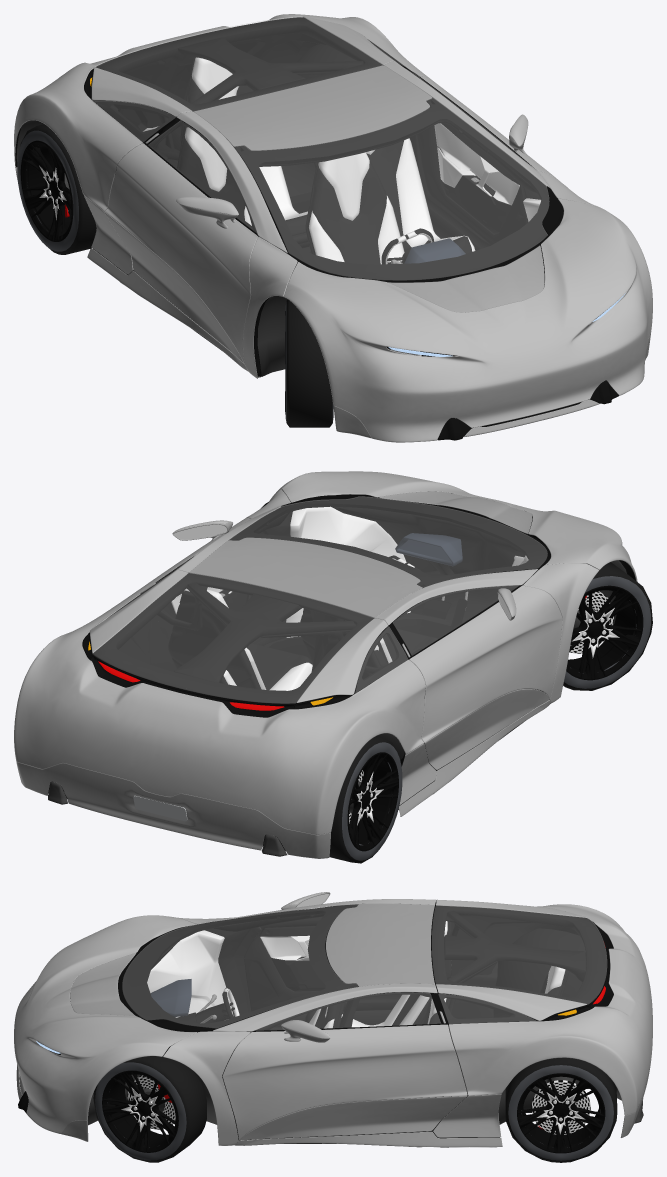
Rendered from concept-ev.glb.
3 renders of one model, top to bottom at view 1: azimuth 30°, elevation 25°; view 2: azimuth 150°, elevation 25°; view 3: azimuth 270°, elevation 25°, orthographic. The views are drawn at different scales.
Parts seen in each view (by area): view 1: BodyHood, BodyWindshield, BodyRearwindow, BodyDoorRColor1, BodyRearPanelsColor1, BodyRoofPanel, BodyWindshieldGasket, InteriorSeatsColor1, InteriorSeatsColor2, BodyPillars, InteriorPillar, InteriorRearHatch (+20 smaller); view 2: BodyRearPanelsColor1, BodyRearwindow, BodyWindshield, BodyDoorRColor1, BodyPanelsColor2, BodyRoofPanel, BodyHood, InteriorRearHatch, BodyPillars, InteriorPillar, BodyWindshieldGasket, InteriorDashMid (+21 smaller); view 3: BodyWindshield, BodyRearPanelsColor1, BodyDoorLColor1, BodyHood, BodyRearwindow, BodyRoofPanel, BodyPillars, BodyWindshieldGasket, BodyDoorLColor2, BodyPanelsColor2, InteriorRearHatch, WheelFrontL (+24 smaller).
Part boxes in pixels (<box>): BodyHood: <box>283,198,652,442</box>; BodyWindshield: <box>234,98,549,280</box>; BodyRearwindow: <box>95,16,382,110</box>; BodyDoorRColor1: <box>104,143,257,362</box>; BodyRearPanelsColor1: <box>14,14,428,210</box>; BodyRoofPanel: <box>193,65,432,150</box>; BodyWindshieldGasket: <box>234,99,563,282</box>; InteriorSeatsColor1: <box>185,57,475,264</box>; InteriorSeatsColor2: <box>180,78,472,264</box>; BodyPillars: <box>176,61,598,378</box>; InteriorPillar: <box>158,37,434,168</box>; InteriorRearHatch: <box>93,17,383,117</box>; BodyRearPanelsColor1: <box>14,569,425,834</box>; BodyRearwindow: <box>92,573,373,703</box>; BodyWindshield: <box>229,496,547,587</box>; BodyDoorRColor1: <box>409,585,562,742</box>; BodyPanelsColor2: <box>16,700,551,858</box>; BodyRoofPanel: <box>189,537,422,617</box>; BodyHood: <box>278,471,637,581</box>; InteriorRearHatch: <box>93,573,385,707</box>; BodyPillars: <box>175,489,599,703</box>; InteriorPillar: <box>174,574,417,682</box>; BodyWindshieldGasket: <box>230,496,550,587</box>; InteriorDashMid: <box>331,503,528,622</box>; BodyWindshield: <box>122,904,357,1028</box>; BodyRearPanelsColor1: <box>436,899,652,1115</box>; BodyDoorLColor1: <box>222,1024,467,1139</box>; BodyHood: <box>14,915,196,1133</box>; BodyRearwindow: <box>432,905,606,1003</box>; BodyRoofPanel: <box>326,903,434,986</box>; BodyPillars: <box>163,899,437,1145</box>; BodyWindshieldGasket: <box>118,905,357,1032</box>; BodyDoorLColor2: <box>240,1096,467,1140</box>; BodyPanelsColor2: <box>16,1050,652,1147</box>; InteriorRearHatch: <box>431,905,606,1020</box>; WheelFrontL: <box>93,1054,206,1162</box>.
Size of the model in its own units: 2.54 by 1.15 by 4.36.
23 materials, 1 textured.
